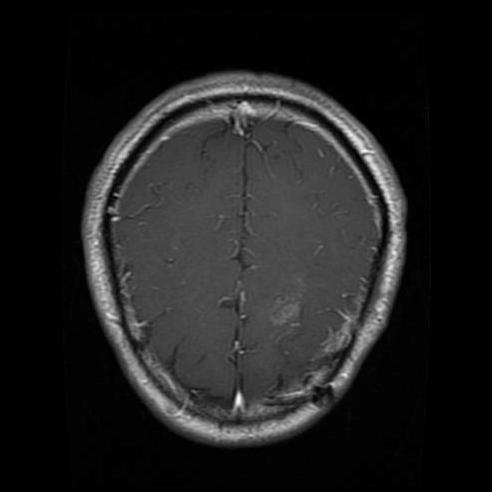Tumour-Glioma: (264, 283, 325, 349)
